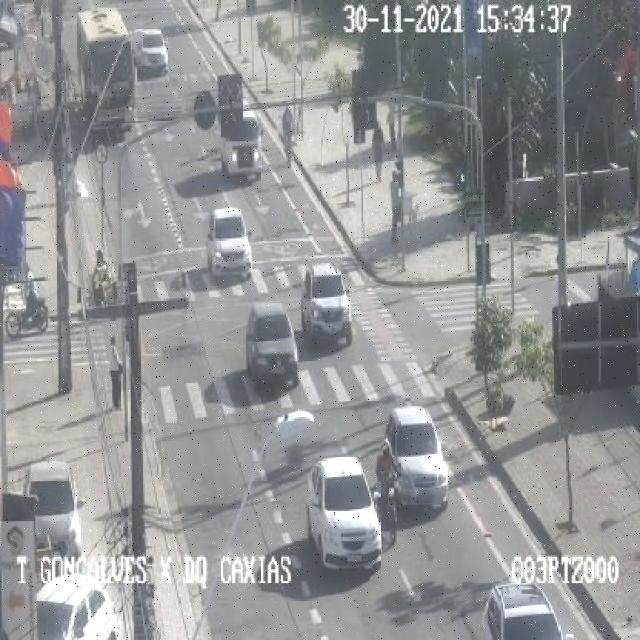Bus: (80, 0, 134, 142), (223, 114, 272, 186)
Car: (305, 458, 382, 572), (374, 406, 454, 506), (21, 461, 82, 558), (480, 582, 572, 639), (36, 574, 119, 637), (243, 303, 300, 388), (301, 262, 351, 344), (206, 206, 252, 276), (132, 28, 169, 77)
Cycle: (0, 260, 52, 331), (274, 96, 310, 166)
